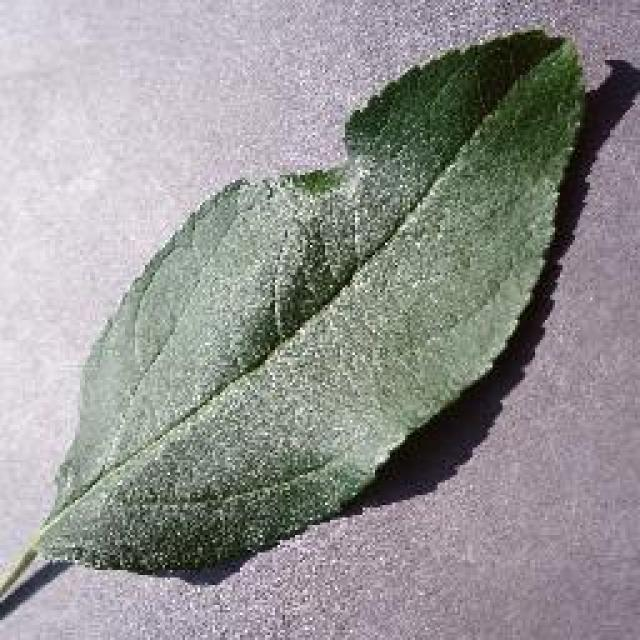apple healthy: (0, 23, 590, 625)
